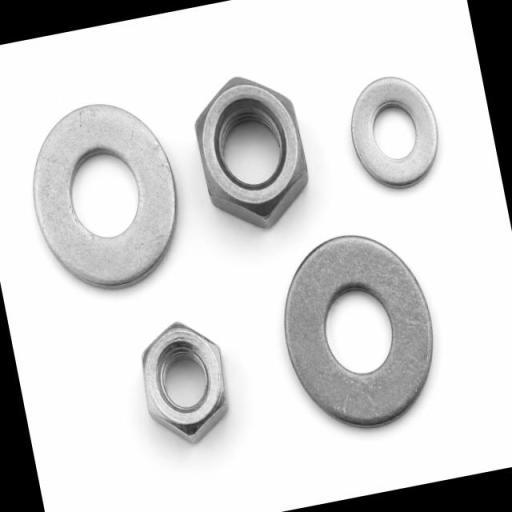Nut: (195, 76, 309, 229), (141, 322, 230, 444)
Washer: (283, 235, 434, 430), (33, 103, 178, 289), (350, 76, 439, 189)
